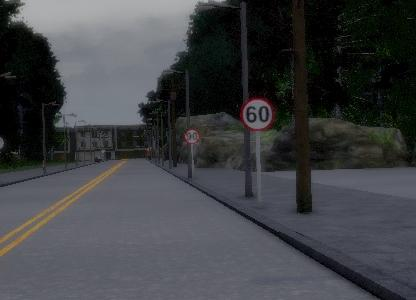Speed_60: (239, 94, 276, 131)
